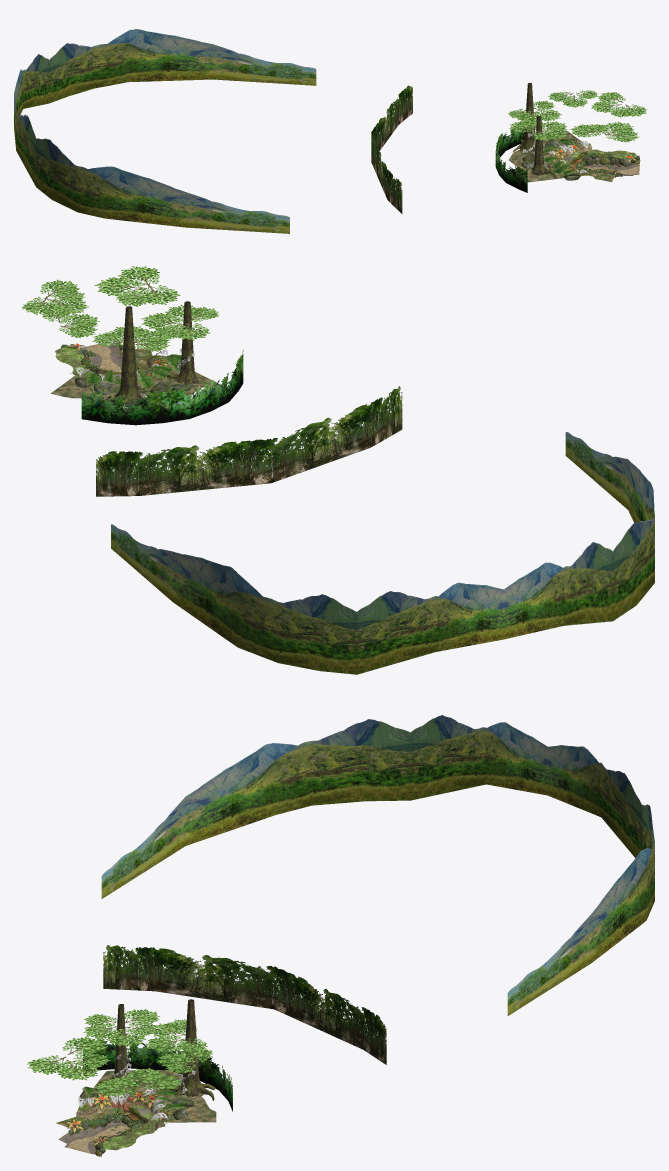
Rendered from Title Screen.fbx.
3 views of the same model, one above another, from view 1: azimuth 30°, elevation 25°; view 2: azimuth 150°, elevation 25°; view 3: azimuth 270°, elevation 25° (orthographic). The views are drawn at different scales.
Visible parts, largest first — view 1: polySurface1698__Ba_haikeiB.001, grass_0__leaf_a.004, hayashi1__yabu, polySurface1089__A_wood_00, Circle, polySurface1878__A_grd_10, shidaB_0_48__Ba_sidaB.006, fromizumi_pCube163__A_stone_04, polySurface2383__A_grd_09, polySurface1387__Ba_madokadura.002; view 2: polySurface1698__Ba_haikeiB.001, hayashi1__yabu, grass_0__leaf_a.004, Circle, polySurface1089__A_wood_00, polySurface1878__A_grd_10, shidaB_0_48__Ba_sidaB.006; view 3: polySurface1698__Ba_haikeiB.001, hayashi1__yabu, grass_0__leaf_a.004, Circle, polySurface1089__A_wood_00, polySurface1878__A_grd_10, polySurface1387__Ba_madokadura.002, polySurface2383__A_grd_09, polySurface1158_15__Ba_flowerA.002.
Boxes of the visible parts, x1,y1,x2,y2 form: polySurface1698__Ba_haikeiB.001: (14,29,316,233); grass_0__leaf_a.004: (508,90,647,142); hayashi1__yabu: (371,85,412,213); polySurface1089__A_wood_00: (513,83,619,178); Circle: (495,127,527,192); polySurface1878__A_grd_10: (509,130,584,182); shidaB_0_48__Ba_sidaB.006: (543,139,577,177); fromizumi_pCube163__A_stone_04: (522,153,636,180); polySurface2383__A_grd_09: (563,149,636,164); polySurface1387__Ba_madokadura.002: (522,129,588,176); polySurface1698__Ba_haikeiB.001: (111,432,654,674); hayashi1__yabu: (96,386,402,496); grass_0__leaf_a.004: (22,266,218,351); Circle: (81,349,243,425); polySurface1089__A_wood_00: (80,301,198,407); polySurface1878__A_grd_10: (51,358,223,401); shidaB_0_48__Ba_sidaB.006: (85,354,181,391); polySurface1698__Ba_haikeiB.001: (101,715,654,1015); hayashi1__yabu: (103,945,386,1064); grass_0__leaf_a.004: (27,1009,212,1096); Circle: (83,1039,232,1111); polySurface1089__A_wood_00: (95,999,215,1137); polySurface1878__A_grd_10: (82,1070,216,1122); polySurface1387__Ba_madokadura.002: (78,1052,195,1124); polySurface2383__A_grd_09: (101,1104,159,1150); polySurface1158_15__Ba_flowerA.002: (65,1091,172,1146).
Bounding box in the file's own units: 453 × 82.21 × 355.
